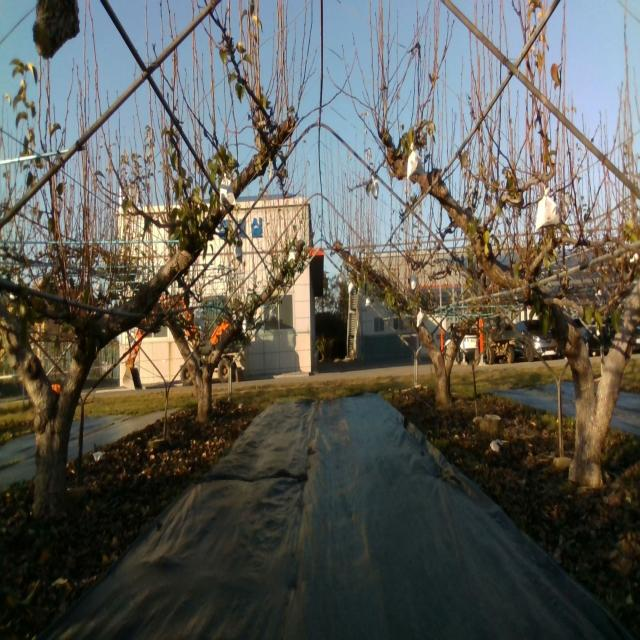pearbags: (533, 187, 561, 231), (219, 172, 236, 212), (407, 142, 424, 179), (194, 309, 204, 327)
